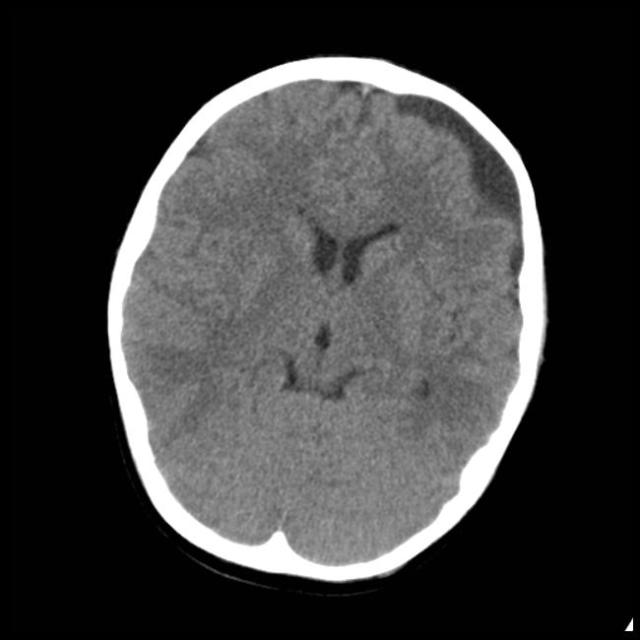lesion: (110, 64, 544, 578)
